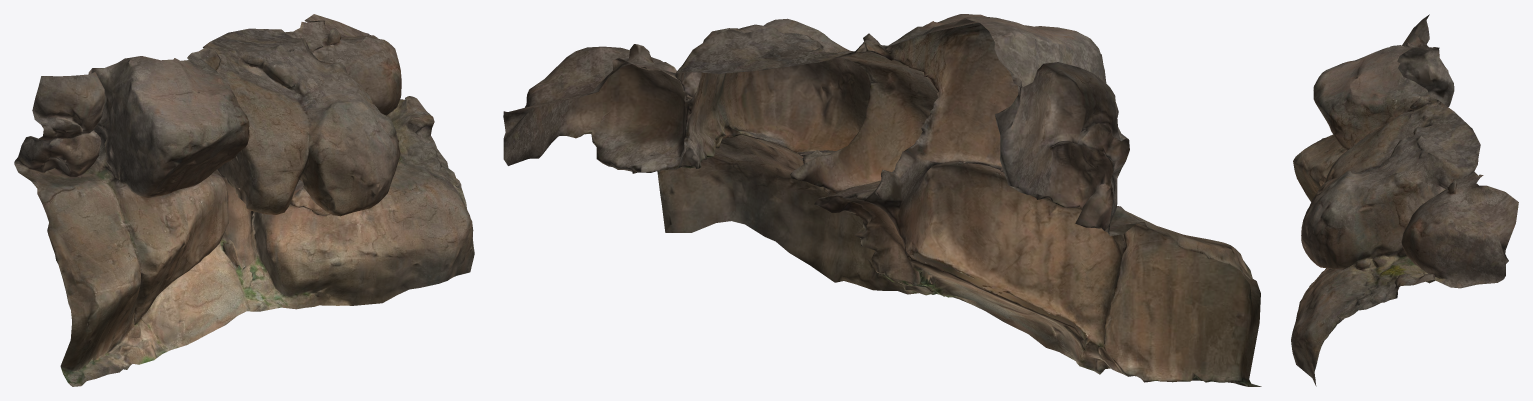
The model's file is cliff1.glb.
The picture shows the model from 3 angles, left to right: view 1: azimuth 30°, elevation 25°; view 2: azimuth 150°, elevation 25°; view 3: azimuth 270°, elevation 25°; orthographic projection. The views are drawn at different scales.
Visible parts, largest first — view 1: cliff1; view 2: cliff1; view 3: cliff1.
Part boxes in pixels (box(x1,y1,x2,y2)): cliff1: box(14, 14, 474, 386); cliff1: box(503, 14, 1261, 386); cliff1: box(1291, 14, 1518, 386).
Bounding box in the file's own units: 8.27 × 4.96 × 4.39.
1 material, 1 textured.
